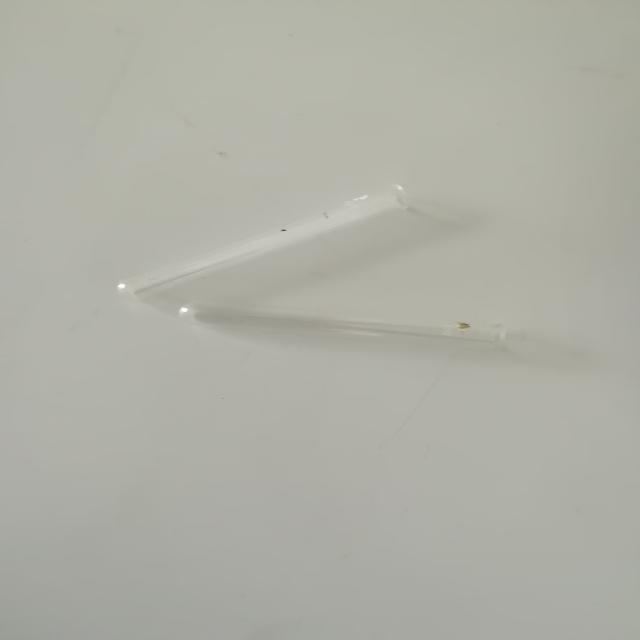Test_Tube: (116, 162, 488, 308), (170, 284, 583, 376)
